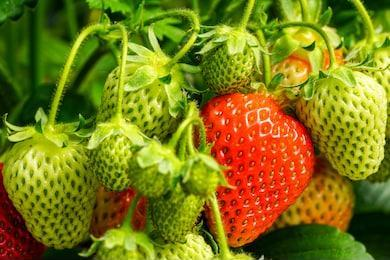Fresa: (190, 87, 316, 251)
